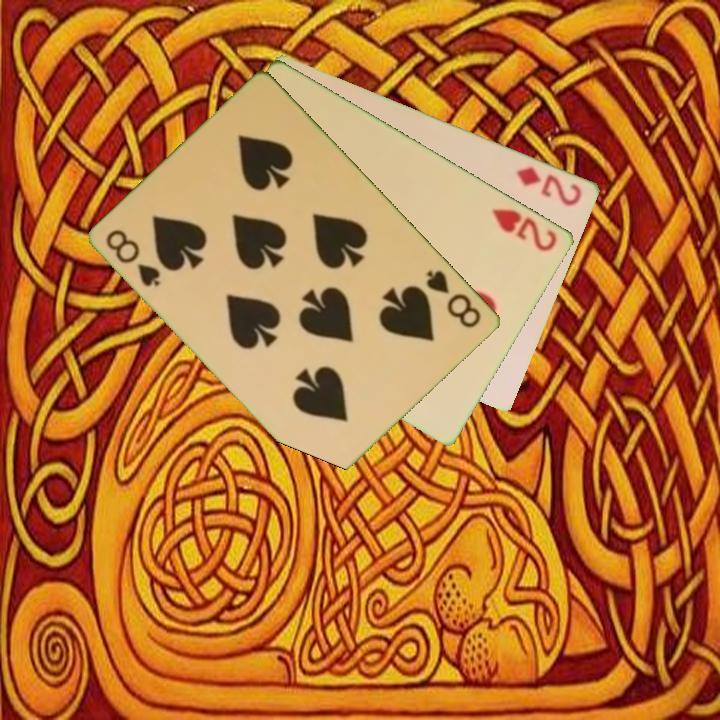2d: (513, 163, 585, 209)
2h: (489, 204, 561, 255)
8s: (423, 266, 485, 331), (102, 226, 164, 290)
